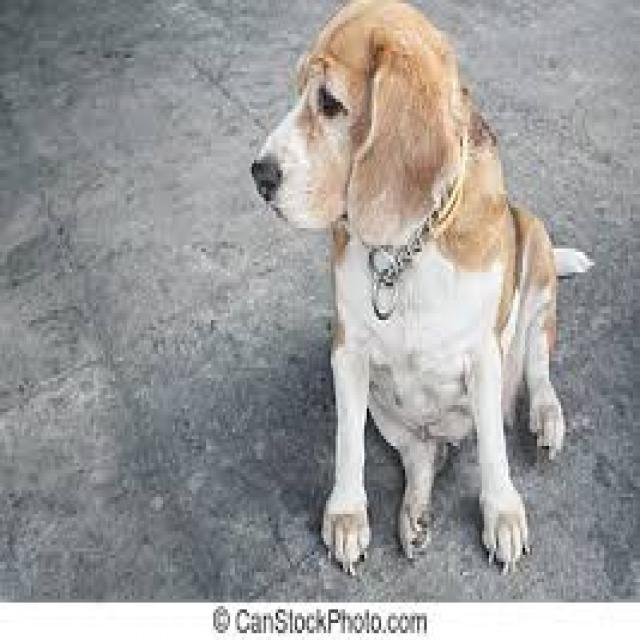Dog: (248, 6, 598, 579)
